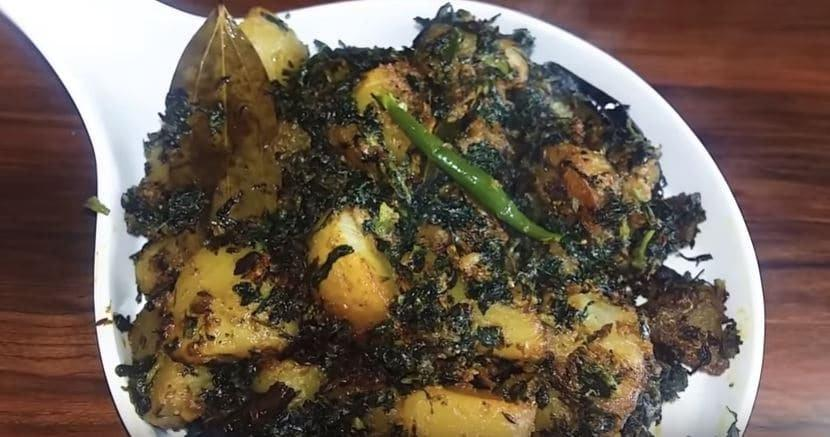Aloo Methi: (91, 23, 775, 428)
